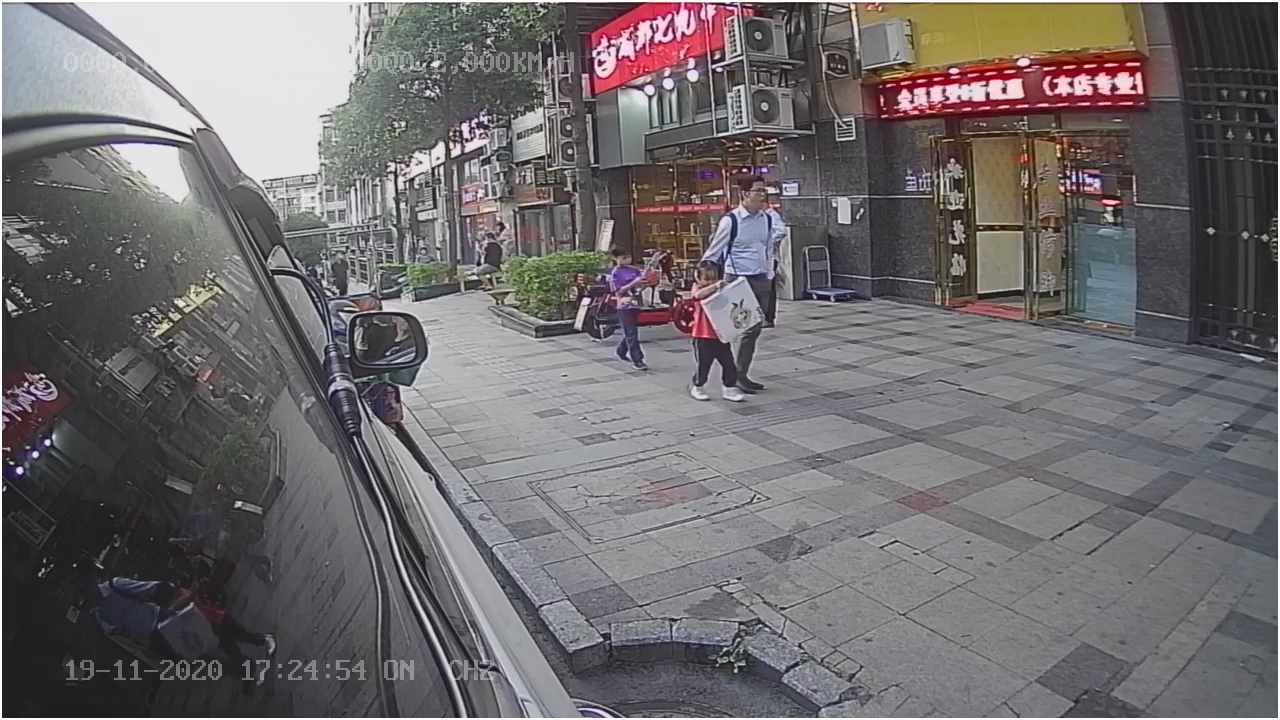person: (698, 171, 785, 276), (602, 244, 656, 376)
